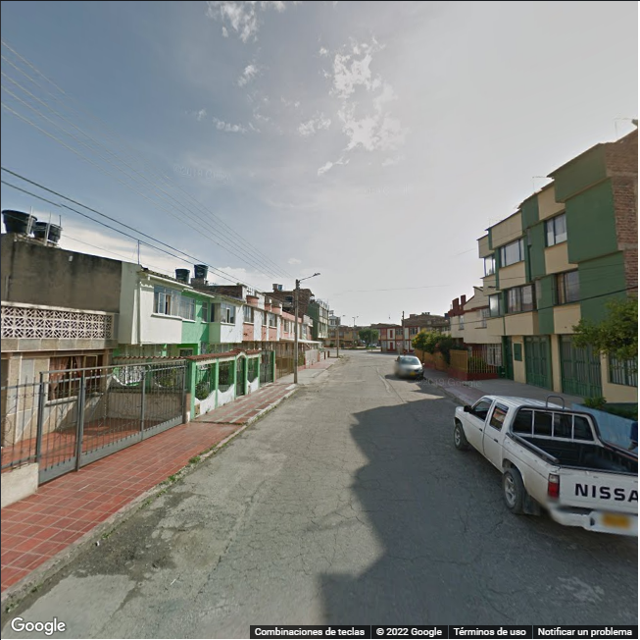D00: (200, 497, 252, 598), (320, 516, 341, 575), (464, 485, 475, 531), (345, 476, 355, 512)
D10: (392, 552, 486, 566), (280, 548, 318, 560), (487, 583, 524, 594)
